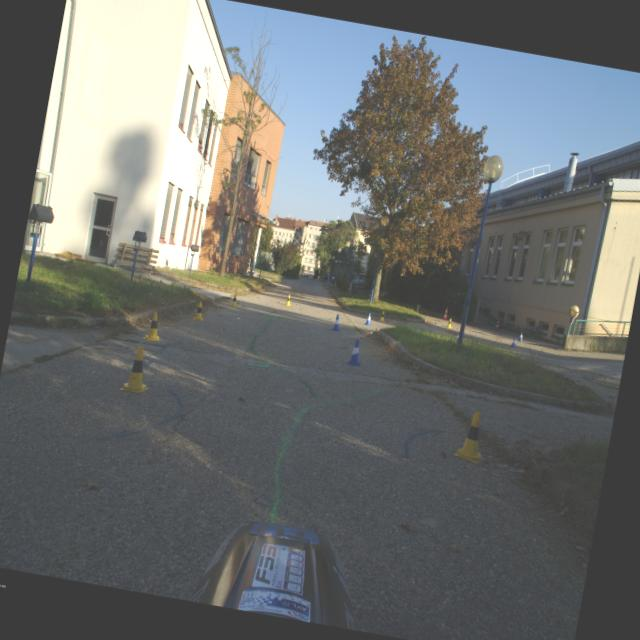blue_cone: (346, 338, 364, 366), (330, 314, 342, 332), (363, 312, 372, 326), (509, 336, 516, 348), (516, 332, 524, 342), (456, 331, 459, 340)
large_orange_cone: (494, 317, 501, 331), (442, 307, 448, 320)
yellow_cone: (452, 408, 490, 464), (119, 344, 155, 394), (142, 310, 166, 342), (192, 300, 206, 322), (228, 292, 240, 308), (284, 294, 292, 306), (378, 310, 386, 321), (446, 318, 452, 328)
